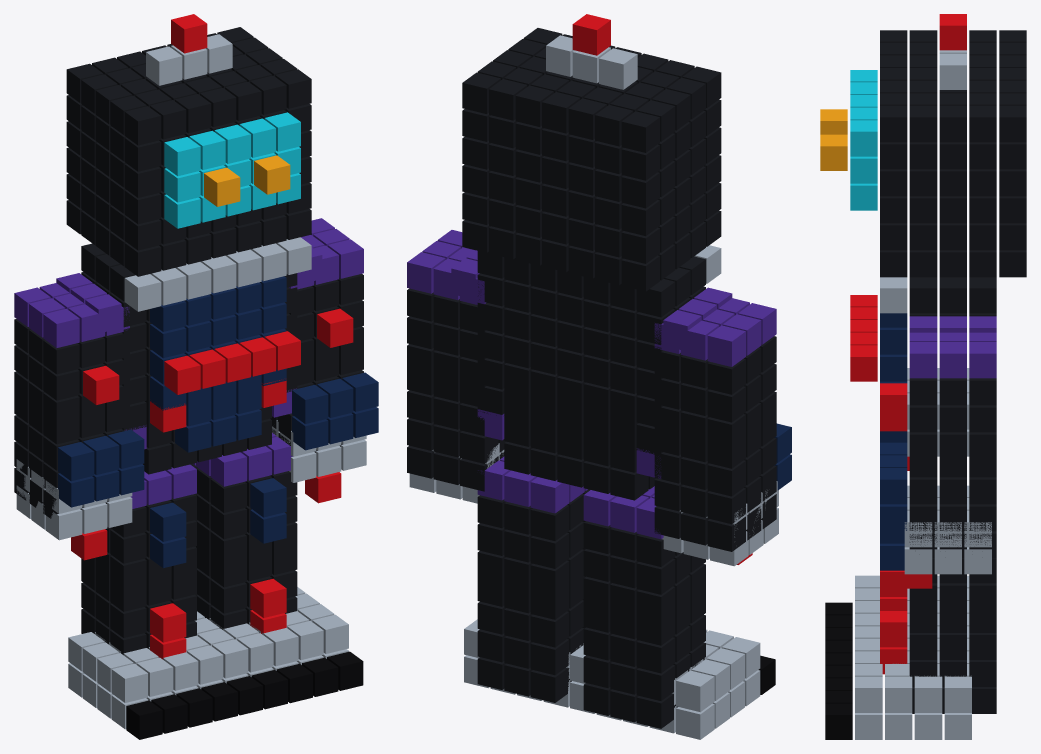
Rendered from robot-voxel-motion.obj.
The picture shows the model from 3 angles, left to right: view 1: azimuth 30°, elevation 25°; view 2: azimuth 150°, elevation 25°; view 3: azimuth 270°, elevation 25°; orthographic projection. The views are drawn at different scales.
Visible parts, largest first — view 1: head_frame, left_foot_trim, torso_panel, head_face, left_upper_arm_frame, torso_trim, left_lower_leg_frame, torso_frame, right_upper_leg_frame, left_forearm_frame, right_lower_leg_frame, right_foot_trim (+29 smaller); view 2: head_frame, torso_frame, left_forearm_frame, left_lower_leg_frame, right_lower_leg_frame, left_upper_arm_frame, pelvis_frame, right_upper_leg_frame, left_upper_leg_frame, right_forearm_frame, left_foot_trim, right_upper_arm_frame (+12 smaller); view 3: head_frame, right_foot_trim, right_forearm_frame, right_lower_leg_frame, right_upper_arm_frame, right_hand_trim, right_upper_arm_joint, head_face, torso_frame, right_upper_leg_frame, right_forearm_panel, torso_accent (+16 smaller).
Part boxes in pixels (x1=…): head_frame: x1=66, y1=27, x2=311, y2=276; left_foot_trim: x1=68, y1=611, x2=248, y2=729; torso_panel: x1=150, y1=276, x2=286, y2=410; head_face: x1=164, y1=112, x2=300, y2=228; left_upper_arm_frame: x1=14, y1=319, x2=129, y2=426; torso_trim: x1=124, y1=237, x2=311, y2=311; left_lower_leg_frame: x1=81, y1=559, x2=196, y2=654; torso_frame: x1=81, y1=243, x2=297, y2=431; right_upper_leg_frame: x1=190, y1=464, x2=297, y2=565; left_forearm_frame: x1=14, y1=396, x2=129, y2=518; right_lower_leg_frame: x1=195, y1=544, x2=297, y2=629; right_foot_trim: x1=209, y1=587, x2=348, y2=676; head_frame: x1=462, y1=28, x2=721, y2=291; torso_frame: x1=477, y1=251, x2=705, y2=455; left_forearm_frame: x1=654, y1=418, x2=776, y2=551; left_lower_leg_frame: x1=583, y1=589, x2=705, y2=728; right_lower_leg_frame: x1=477, y1=576, x2=585, y2=702; left_upper_arm_frame: x1=654, y1=336, x2=776, y2=450; pelvis_frame: x1=504, y1=388, x2=656, y2=500; right_upper_leg_frame: x1=477, y1=489, x2=590, y2=596; left_upper_leg_frame: x1=583, y1=521, x2=705, y2=622; right_forearm_frame: x1=407, y1=364, x2=505, y2=491; left_foot_trim: x1=570, y1=629, x2=760, y2=739; right_upper_arm_frame: x1=407, y1=288, x2=486, y2=382; head_frame: x1=880, y1=30, x2=1026, y2=277; right_foot_trim: x1=855, y1=638, x2=971, y2=739; right_forearm_frame: x1=909, y1=452, x2=996, y2=558; right_lower_leg_frame: x1=909, y1=610, x2=996, y2=713; right_upper_arm_frame: x1=909, y1=378, x2=996, y2=459; right_hand_trim: x1=904, y1=485, x2=991, y2=574; right_upper_arm_joint: x1=909, y1=332, x2=996, y2=378; head_face: x1=850, y1=70, x2=877, y2=210; torso_frame: x1=909, y1=277, x2=996, y2=316; right_upper_leg_frame: x1=909, y1=558, x2=996, y2=610; right_forearm_panel: x1=880, y1=442, x2=907, y2=531; torso_accent: x1=850, y1=295, x2=877, y2=381.
Bounding box in the file's own units: 1.47 × 2.95 × 0.8304.
